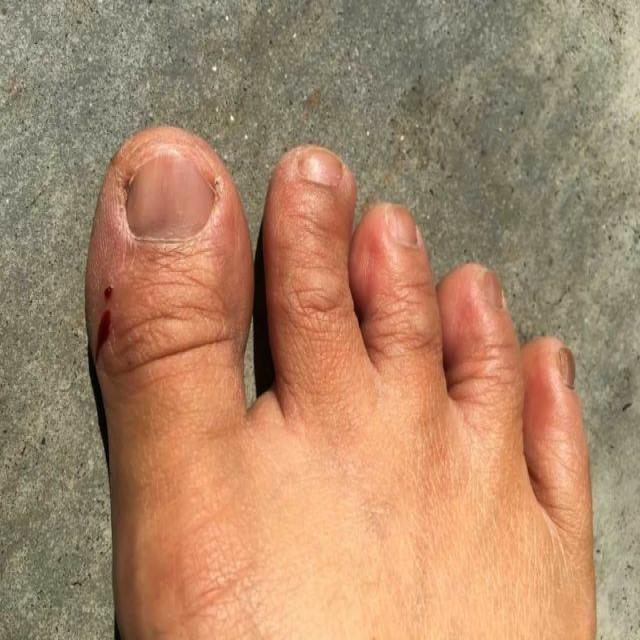diabetes: (124, 148, 216, 241), (298, 148, 344, 187)
